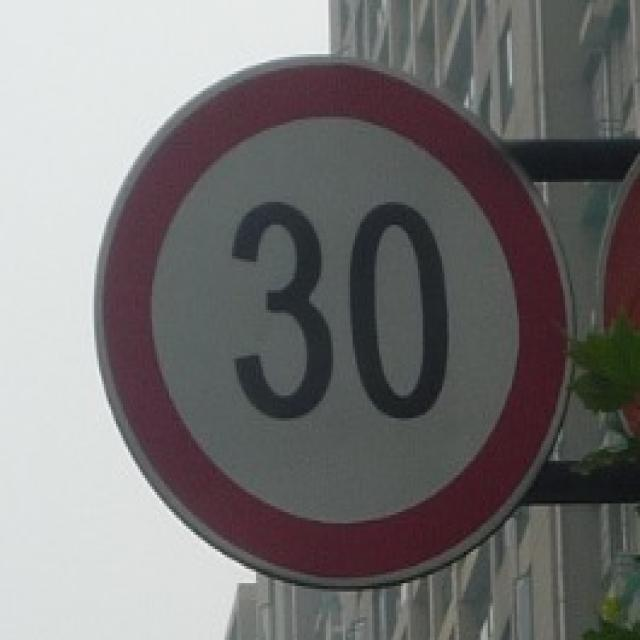Speed Limit -30-: (226, 196, 454, 426)
